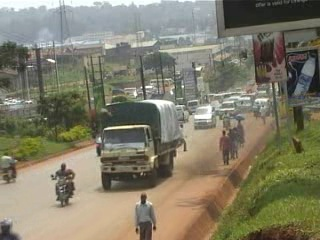Car: (190, 103, 218, 131), (219, 100, 240, 119), (94, 134, 103, 158)
Motorcycle: (49, 171, 78, 209), (0, 157, 22, 185), (219, 114, 233, 131)
